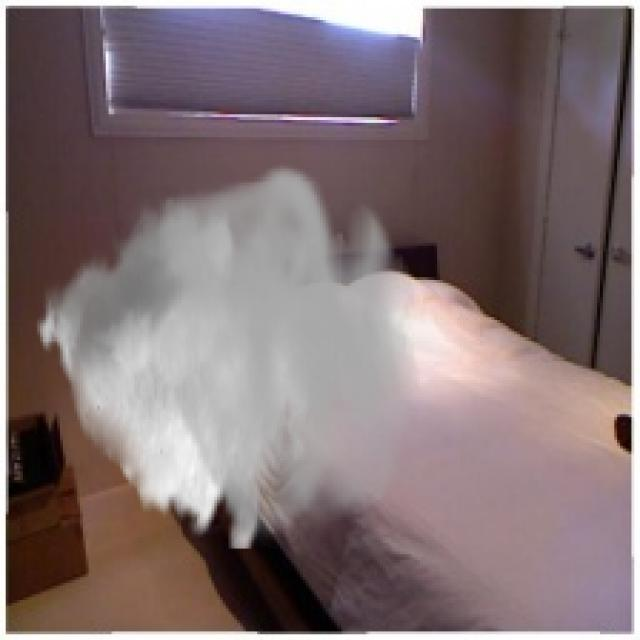smoke: (34, 160, 420, 549)
